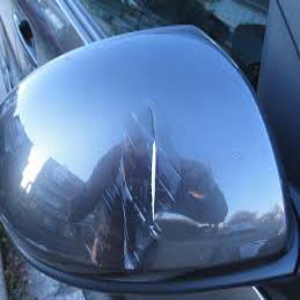side_mirror: (66, 95, 268, 284)
